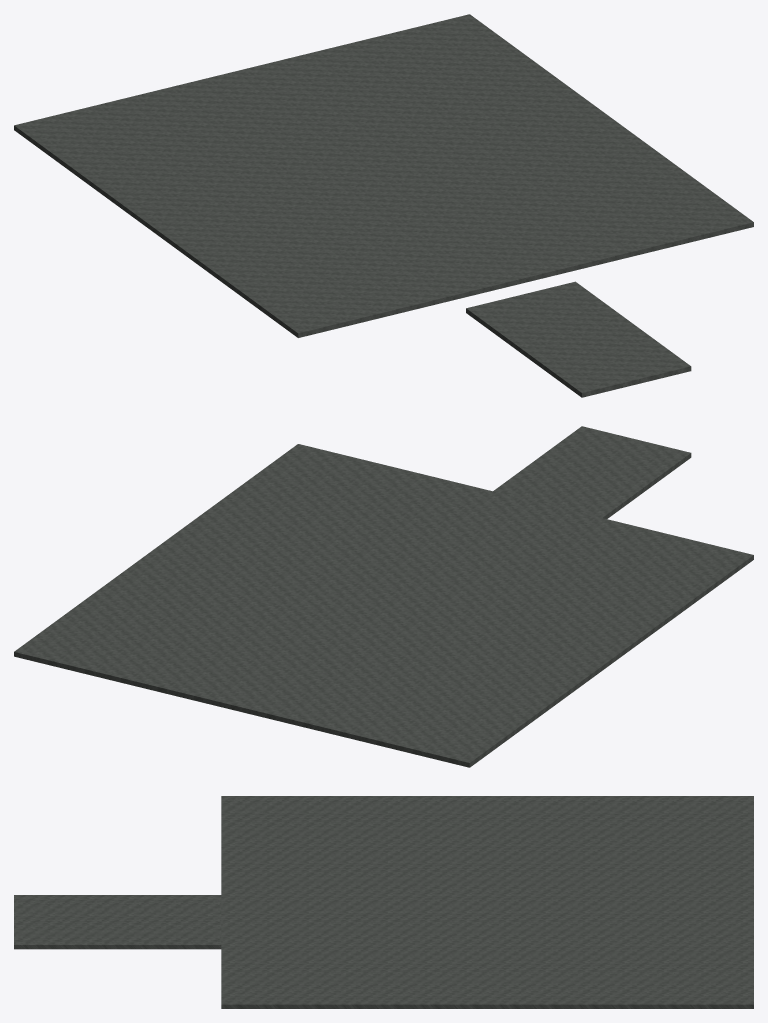
Rendered from PL_C_Removable_Roofs.fbx.
3 renders of one model, top to bottom at view 1: azimuth 30°, elevation 25°; view 2: azimuth 150°, elevation 25°; view 3: azimuth 270°, elevation 25°, orthographic. The views are drawn at different scales.
Parts seen in each view (by area): view 1: PL_C_RemovableRoomRoof, PL_C_EntryTunnelRoof; view 2: PL_C_RemovableRoomRoof, PL_C_EntryTunnelRoof; view 3: PL_C_RemovableRoomRoof, PL_C_EntryTunnelRoof.
Part boxes in pixels (box(x1,y1,x2,y2)): PL_C_RemovableRoomRoof: box(14, 14, 753, 337); PL_C_EntryTunnelRoof: box(466, 281, 691, 397); PL_C_RemovableRoomRoof: box(14, 444, 753, 767); PL_C_EntryTunnelRoof: box(493, 426, 691, 518); PL_C_RemovableRoomRoof: box(221, 796, 753, 1008); PL_C_EntryTunnelRoof: box(14, 895, 221, 949).
Size of the model in its own units: 5000 by 270 by 7500.
Materials: 1 (1 with a texture image).
